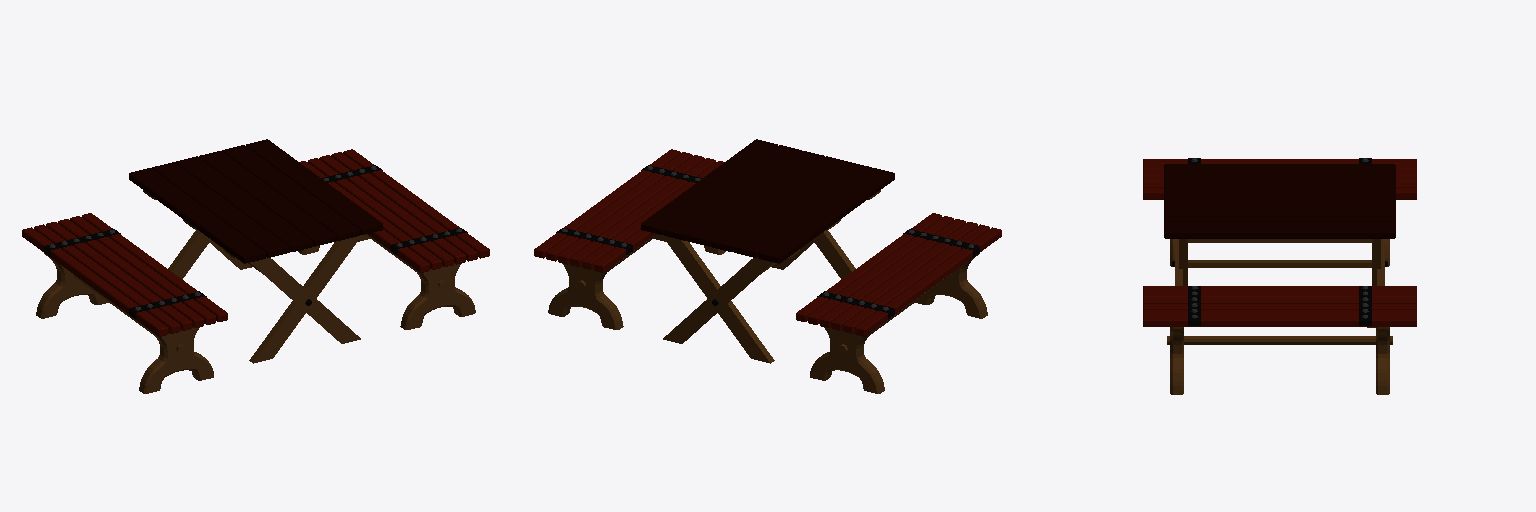
3 renders of one model, left to right at view 1: azimuth 30°, elevation 25°; view 2: azimuth 150°, elevation 25°; view 3: azimuth 270°, elevation 25°, orthographic.
Parts seen in each view (by area): view 1: table_Plane.009, boards_.001_Plane, boards__Plane.014, table_legs__Plane.010, bench_legs__Plane.005, bench_legs_.001_Plane.015, strip_Plane.007, strip.001_Plane.016; view 2: table_Plane.009, boards_.001_Plane, boards__Plane.014, table_legs__Plane.010, bench_legs__Plane.005, bench_legs_.001_Plane.015, strip_Plane.007, strip.001_Plane.016; view 3: table_Plane.009, boards__Plane.014, boards_.001_Plane, crossbar_table_Cube.002, bench_legs_.001_Plane.015, crossbar_Cube.006, table_legs__Plane.010, strip.001_Plane.016.
Boxes of the visible parts, x1,y1,x2,y2 form: table_Plane.009: [129, 139, 382, 263]; boards_.001_Plane: [22, 213, 227, 336]; boards__Plane.014: [300, 149, 489, 272]; table_legs__Plane.010: [168, 229, 361, 363]; bench_legs__Plane.005: [36, 253, 213, 393]; bench_legs_.001_Plane.015: [298, 235, 475, 329]; strip_Plane.007: [44, 229, 206, 318]; strip.001_Plane.016: [321, 165, 467, 254]; table_Plane.009: [641, 139, 894, 263]; boards_.001_Plane: [796, 213, 1001, 336]; boards__Plane.014: [534, 149, 723, 272]; table_legs__Plane.010: [662, 229, 855, 363]; bench_legs__Plane.005: [810, 253, 987, 393]; bench_legs_.001_Plane.015: [548, 235, 725, 329]; strip_Plane.007: [817, 229, 979, 318]; strip.001_Plane.016: [556, 165, 702, 254]; table_Plane.009: [1164, 164, 1395, 238]; boards__Plane.014: [1143, 286, 1416, 326]; boards_.001_Plane: [1143, 159, 1416, 199]; crossbar_table_Cube.002: [1188, 239, 1371, 267]; bench_legs_.001_Plane.015: [1170, 327, 1389, 394]; crossbar_Cube.006: [1167, 336, 1392, 344]; table_legs__Plane.010: [1175, 239, 1384, 285]; strip.001_Plane.016: [1188, 286, 1371, 325].
Size of the model in its own units: 2.89 by 0.9586 by 2.06.
6 materials, 1 textured.